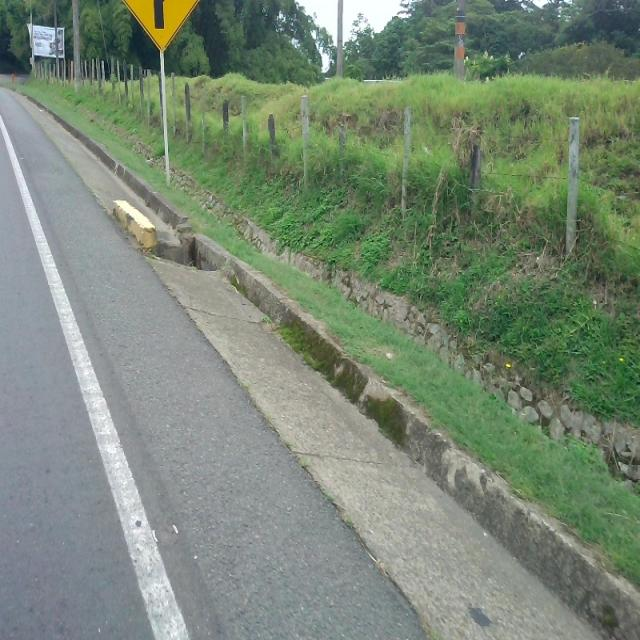DITCH: (4, 81, 638, 638), (7, 83, 637, 638)
